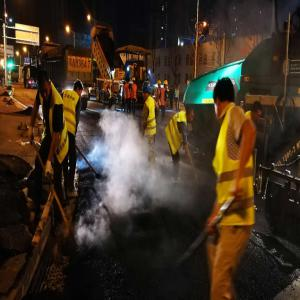blue: (143, 80, 152, 100)
none: (214, 81, 236, 125), (37, 69, 52, 101), (252, 101, 263, 125), (74, 80, 84, 99), (187, 106, 196, 124)
yellow: (164, 80, 169, 90), (159, 80, 163, 89), (133, 77, 136, 84)
